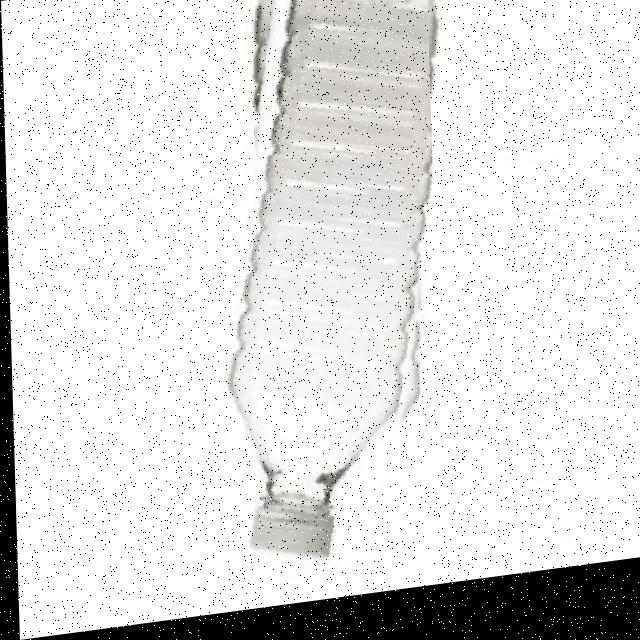litter: (195, 0, 440, 607)
